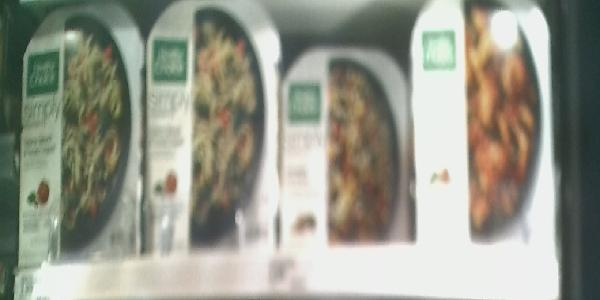pizza1: (416, 2, 560, 240), (145, 2, 279, 255), (17, 1, 144, 259), (284, 44, 414, 244)
